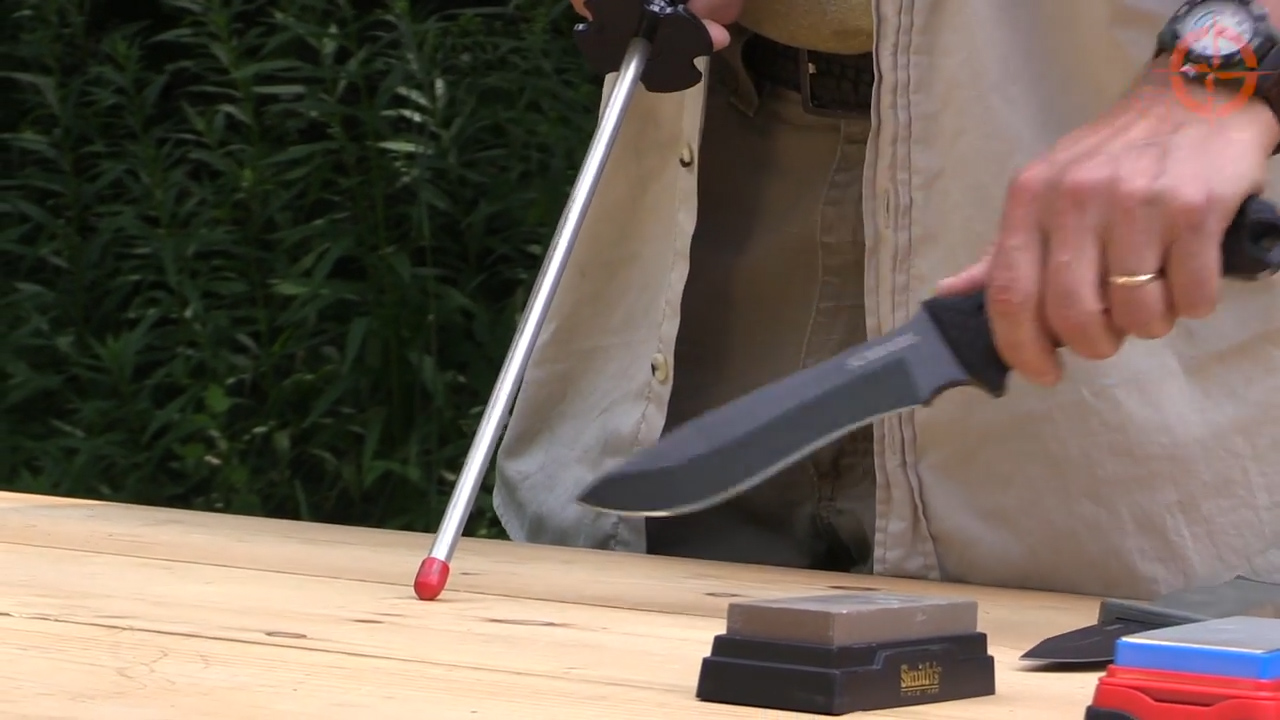knife: (557, 171, 1280, 541)
